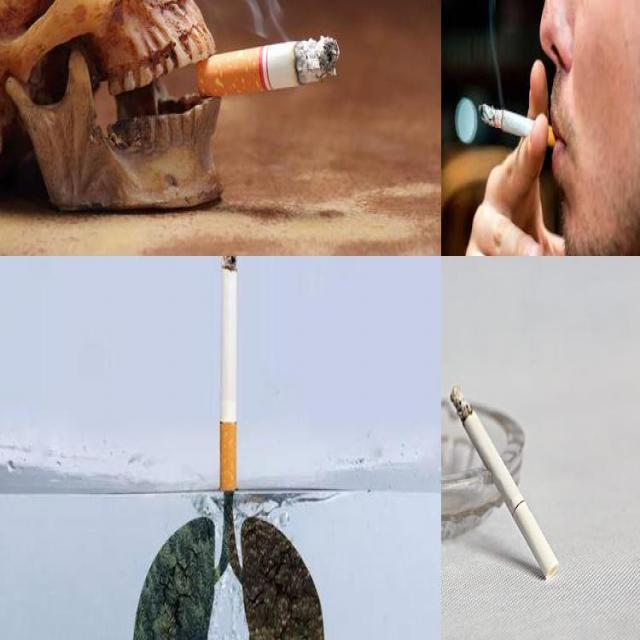smoke: (449, 384, 560, 581), (196, 36, 340, 98), (478, 102, 564, 156), (220, 256, 238, 492)
